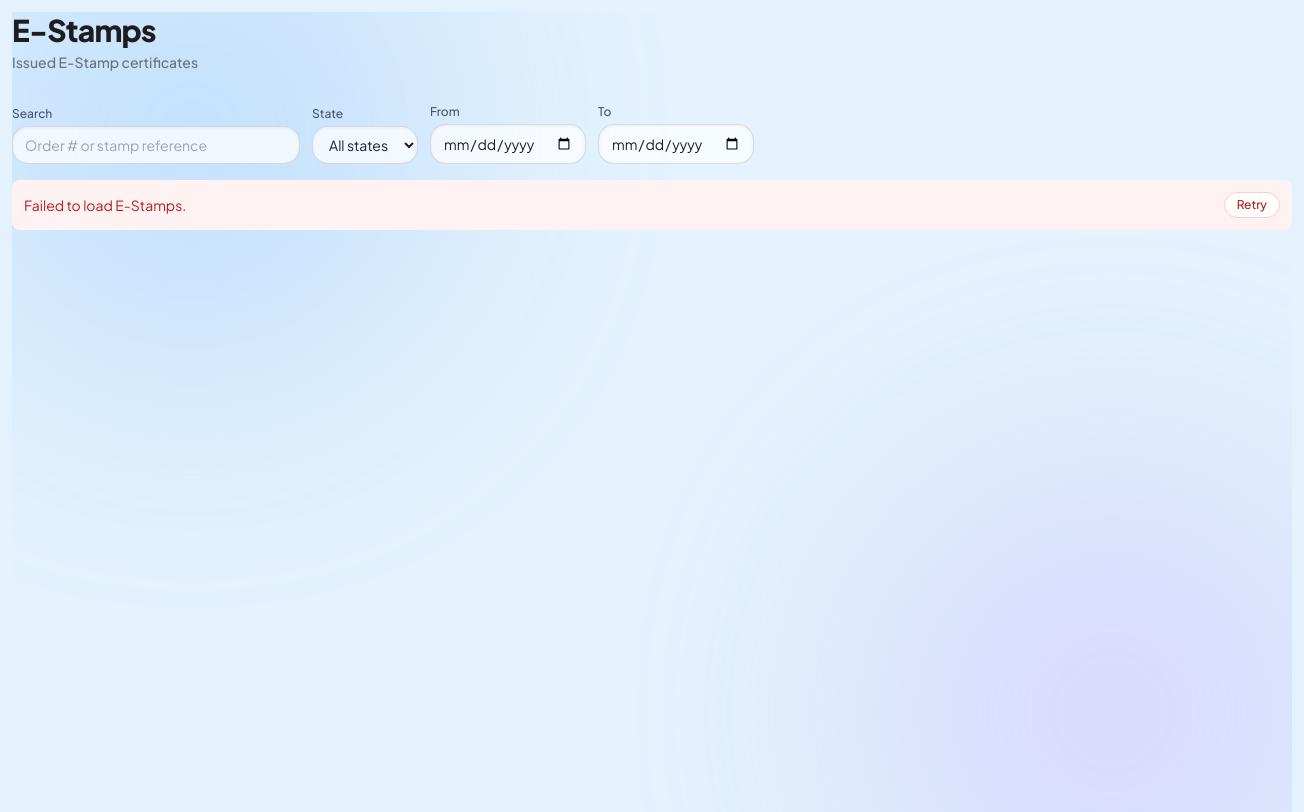
Test: EStampsPage › shows an error with Retry
Expected: the text "Failed to load E-Stamps." is shown, [24,195,186,215]
Click the button "Retry" at (1252, 205), box [1224,192,1280,218]
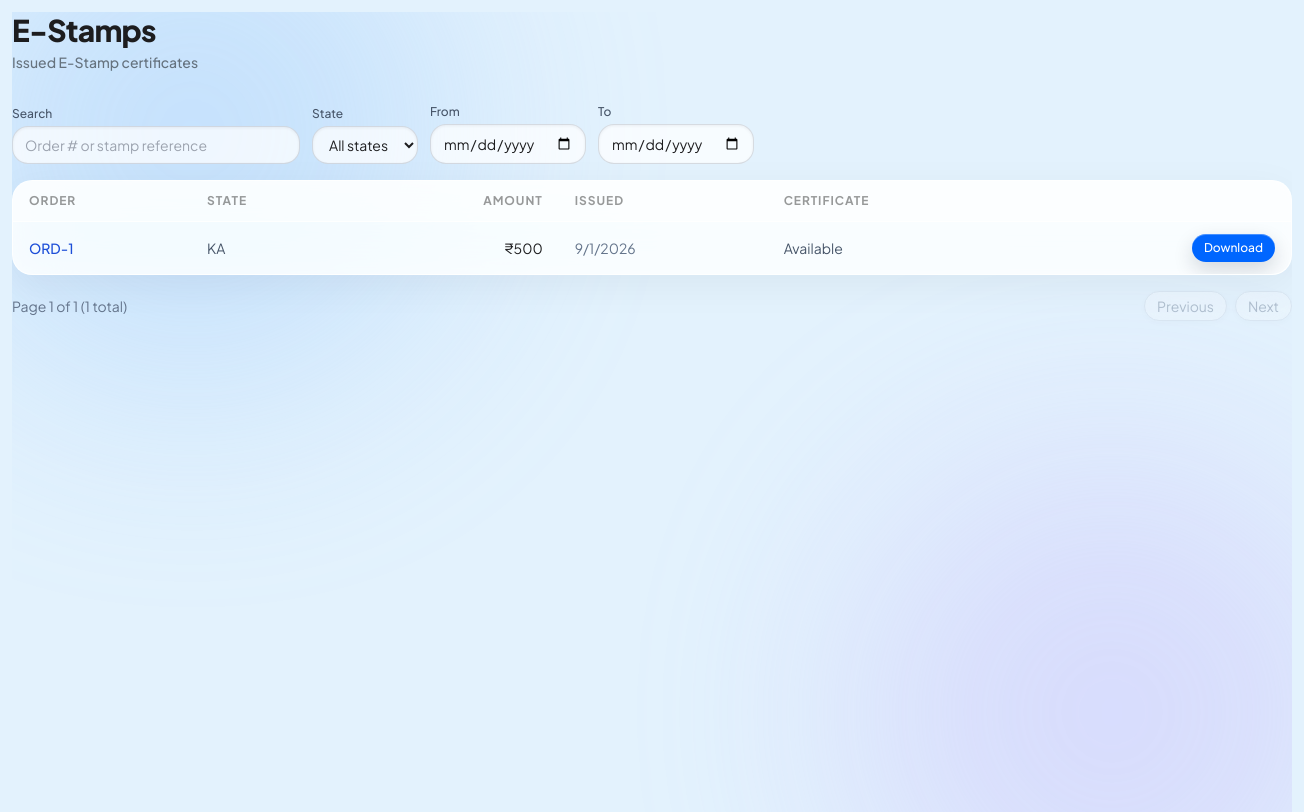
Expected: the link "ORD-1" is shown, [29,239,74,257]
